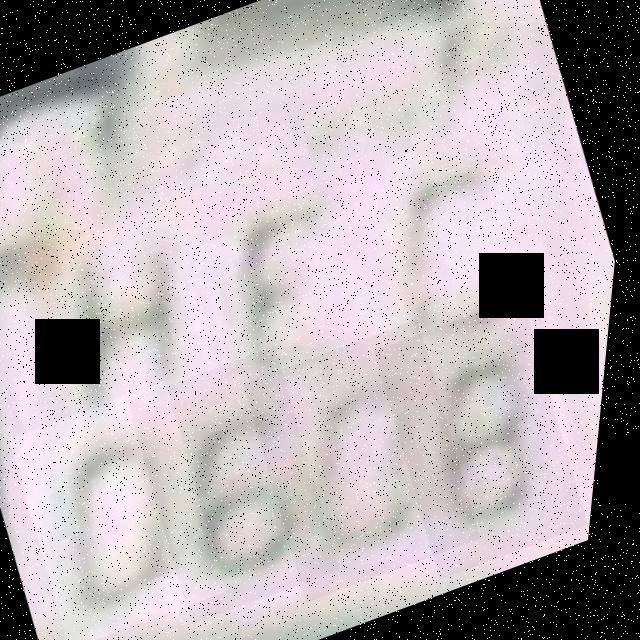0: (234, 319, 508, 603), (4, 381, 253, 640)
6: (119, 346, 368, 624)
8: (364, 296, 616, 579)
H: (18, 204, 244, 439)
